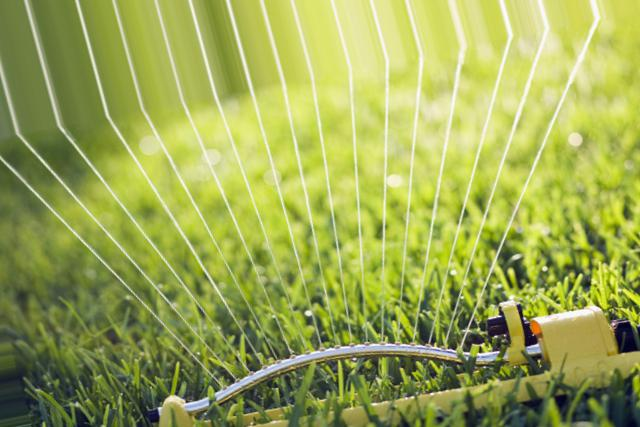patch: (147, 113, 401, 197)
